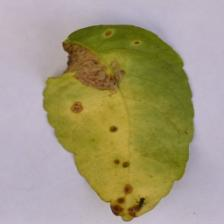canker: (45, 21, 162, 224)
